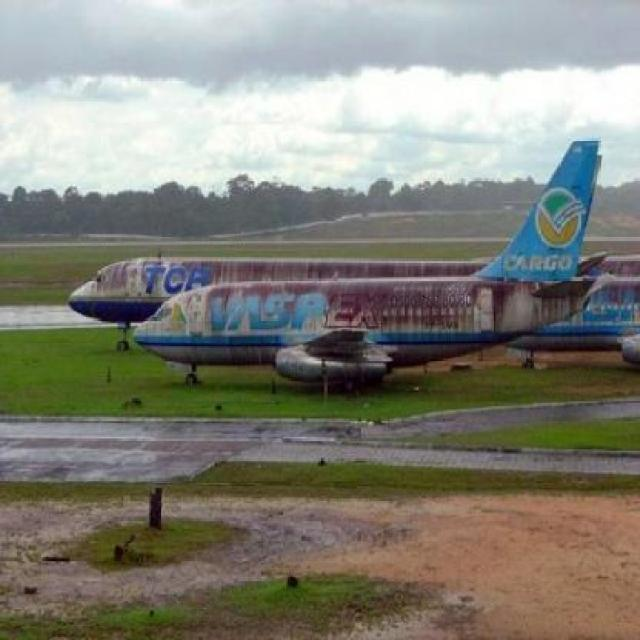corrosion: (78, 261, 640, 396)
